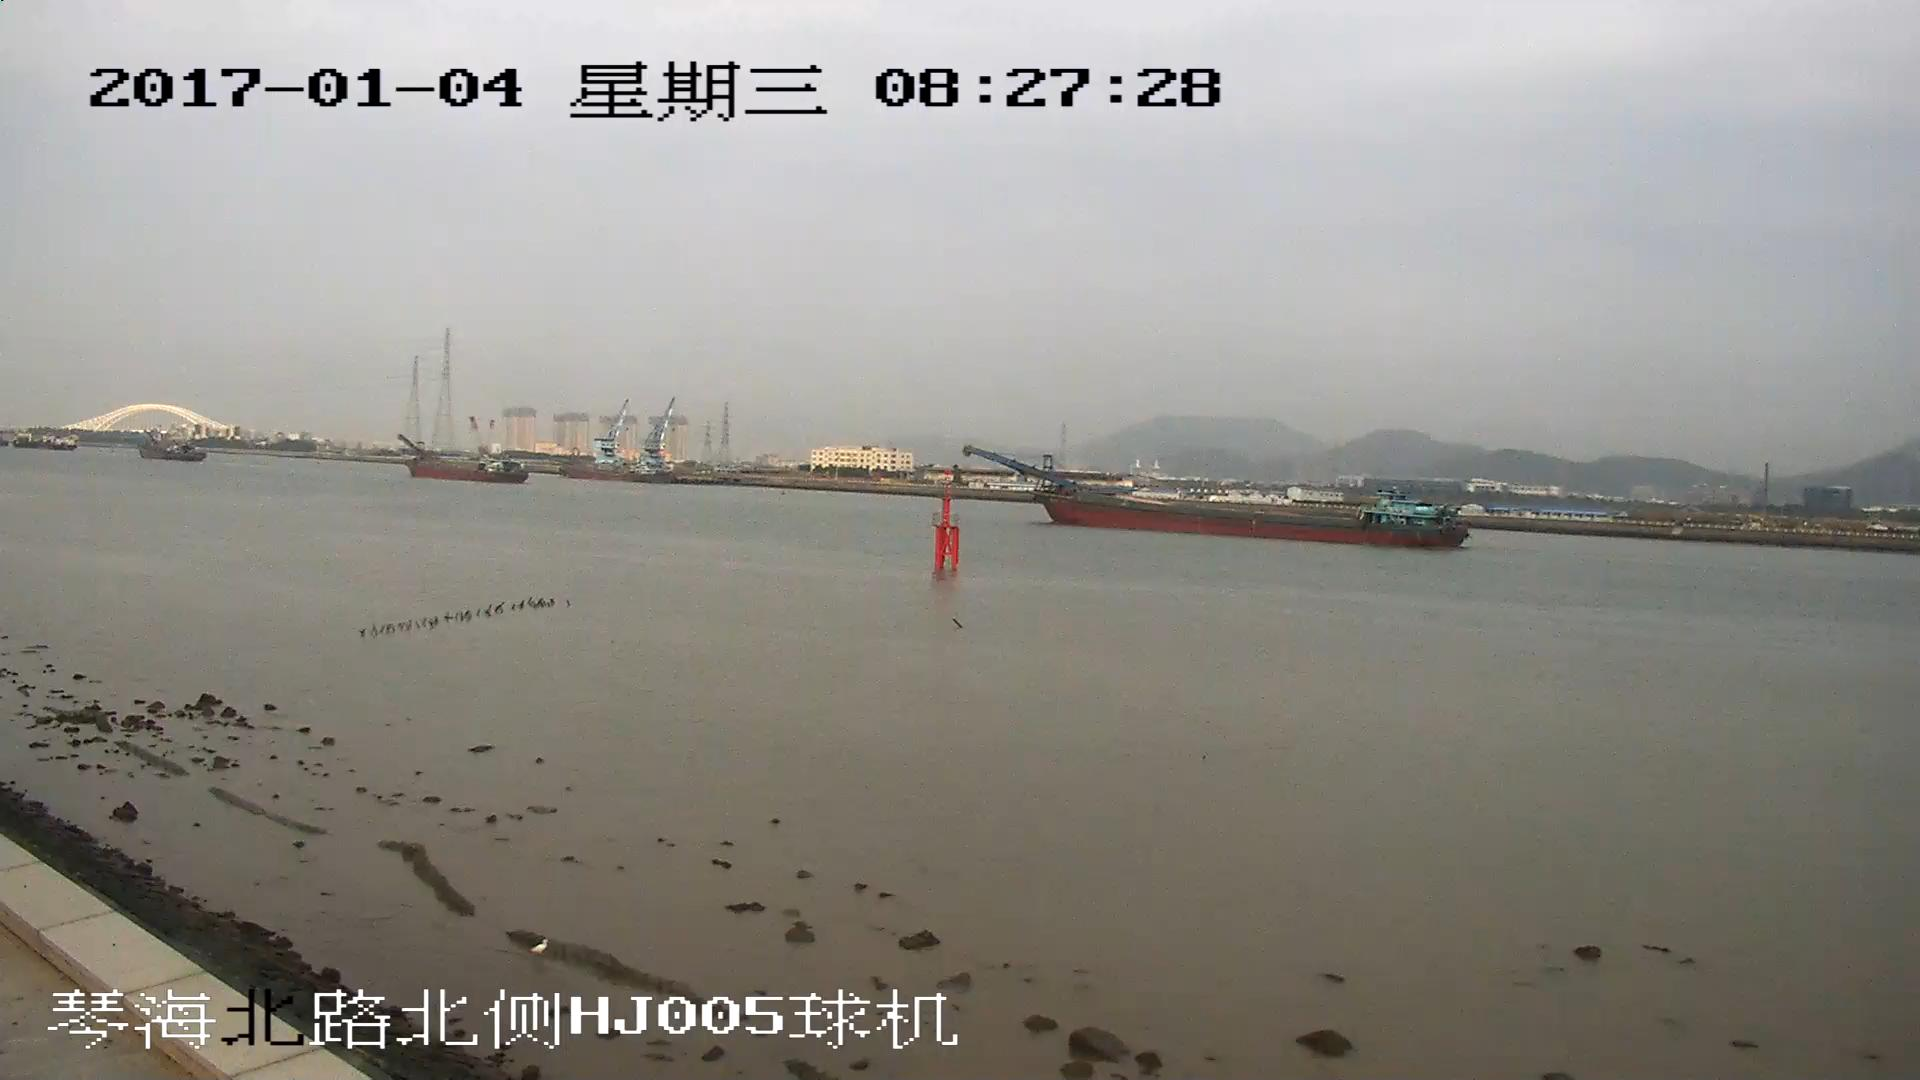bulk cargo carrier: (966, 448, 1462, 550), (401, 437, 526, 485)
